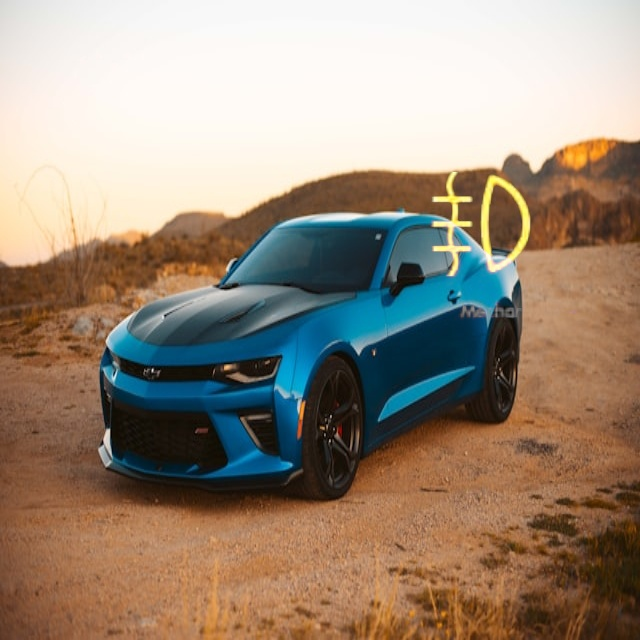symbol: (380, 122, 586, 328), (26, 15, 200, 189)
